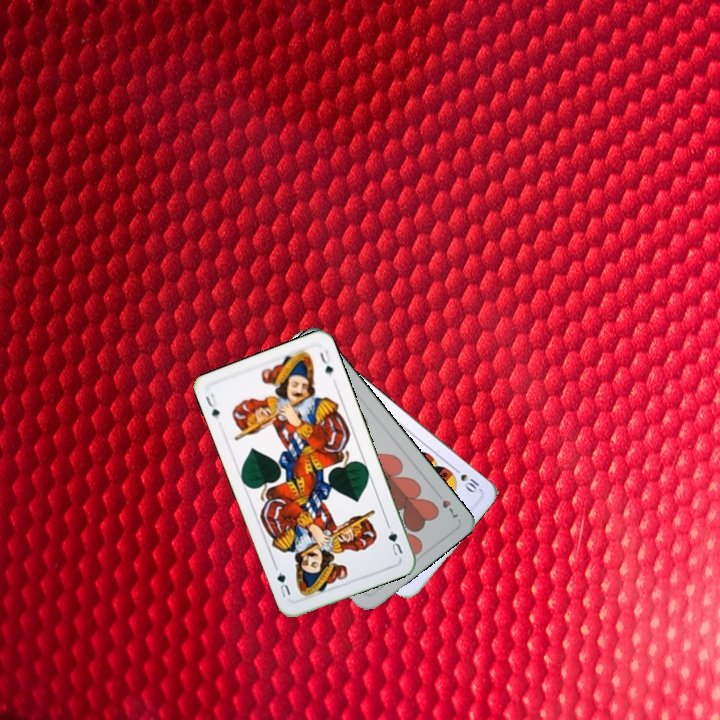GU: (383, 521, 405, 559), (201, 389, 223, 422)
H7: (431, 488, 461, 521)
S10: (449, 463, 482, 496)
